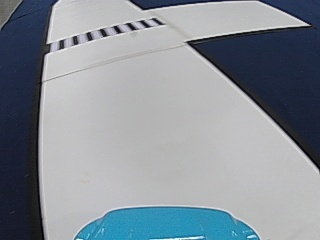CrossWalk: (50, 17, 161, 48)
